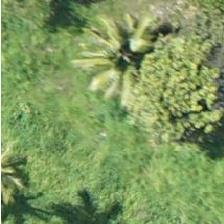coconut_tree: (76, 13, 166, 103)
